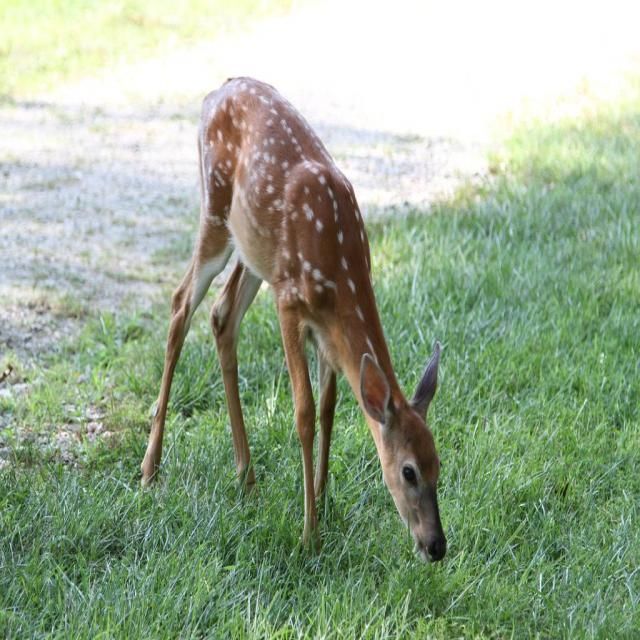Deer: (140, 78, 448, 554)
